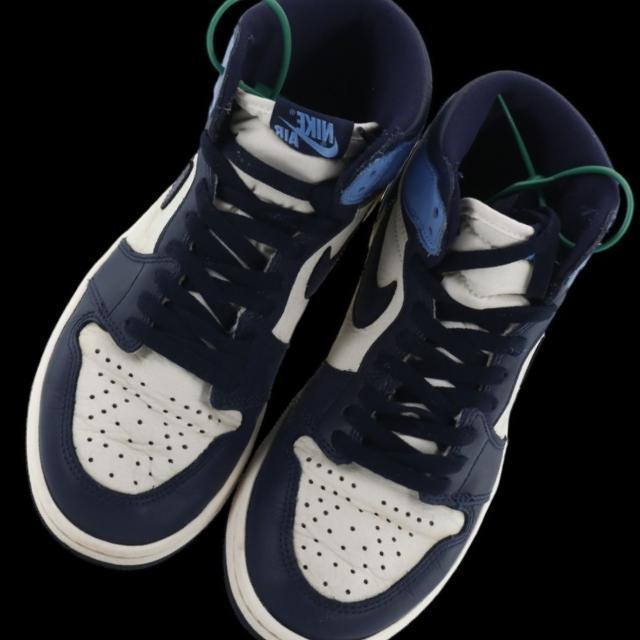nike original jordan 1: (173, 29, 640, 640), (0, 0, 467, 611)
